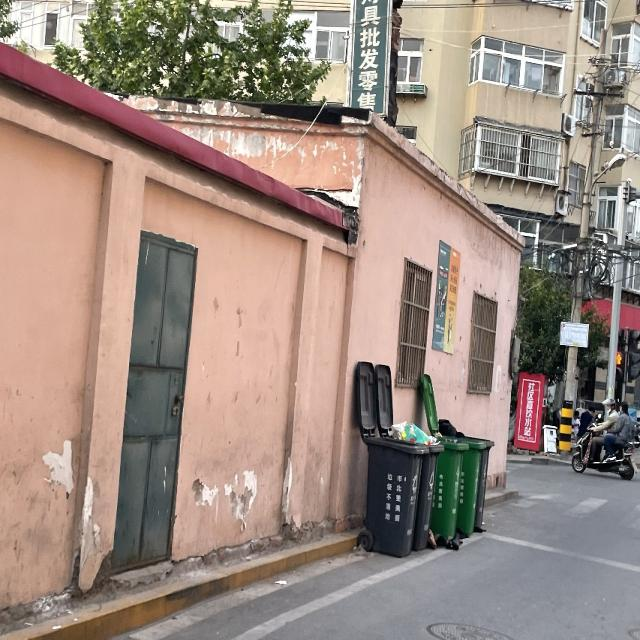garbage: (427, 528, 466, 551)
garbage_bin: (364, 436, 428, 557), (432, 435, 468, 538), (456, 439, 486, 535)
overflow: (378, 420, 443, 548)
